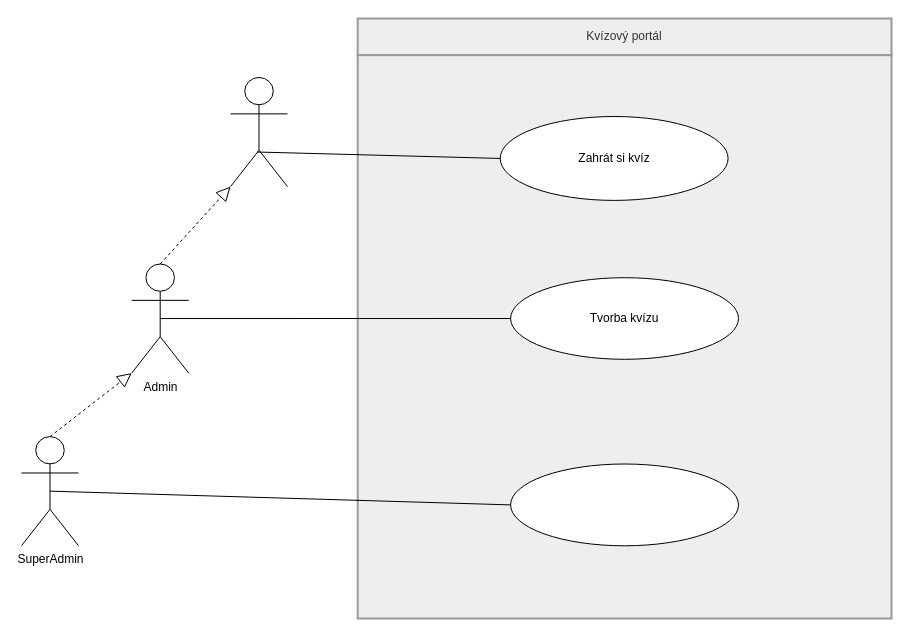
This 910x636 diagram has some shape labels left out. Here are the shapes that lost their labels. From the top down, the centre of each, then its label:
At point 259,131: "User".
At point 624,504: "Správa systému".
